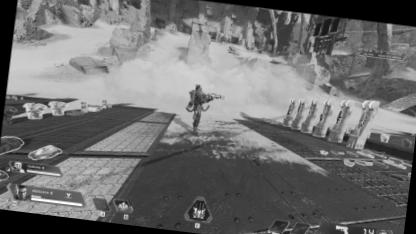Target: (187, 82, 207, 134)
